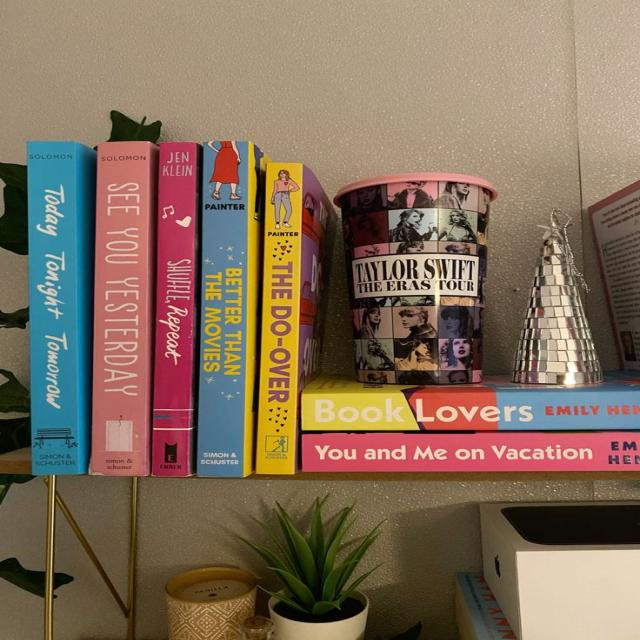book: (89, 142, 158, 476), (28, 142, 96, 474), (196, 141, 262, 477), (256, 162, 325, 474), (151, 142, 199, 476), (301, 432, 639, 472), (301, 396, 640, 430)
